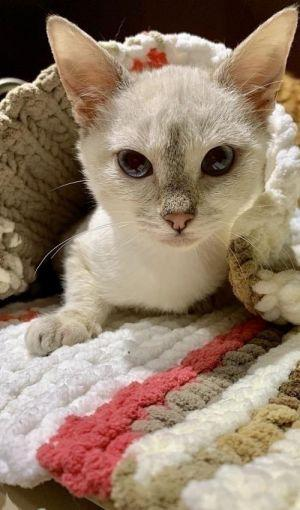siamese: (32, 7, 300, 288)
